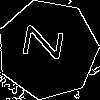Z: (23, 24, 74, 62)
